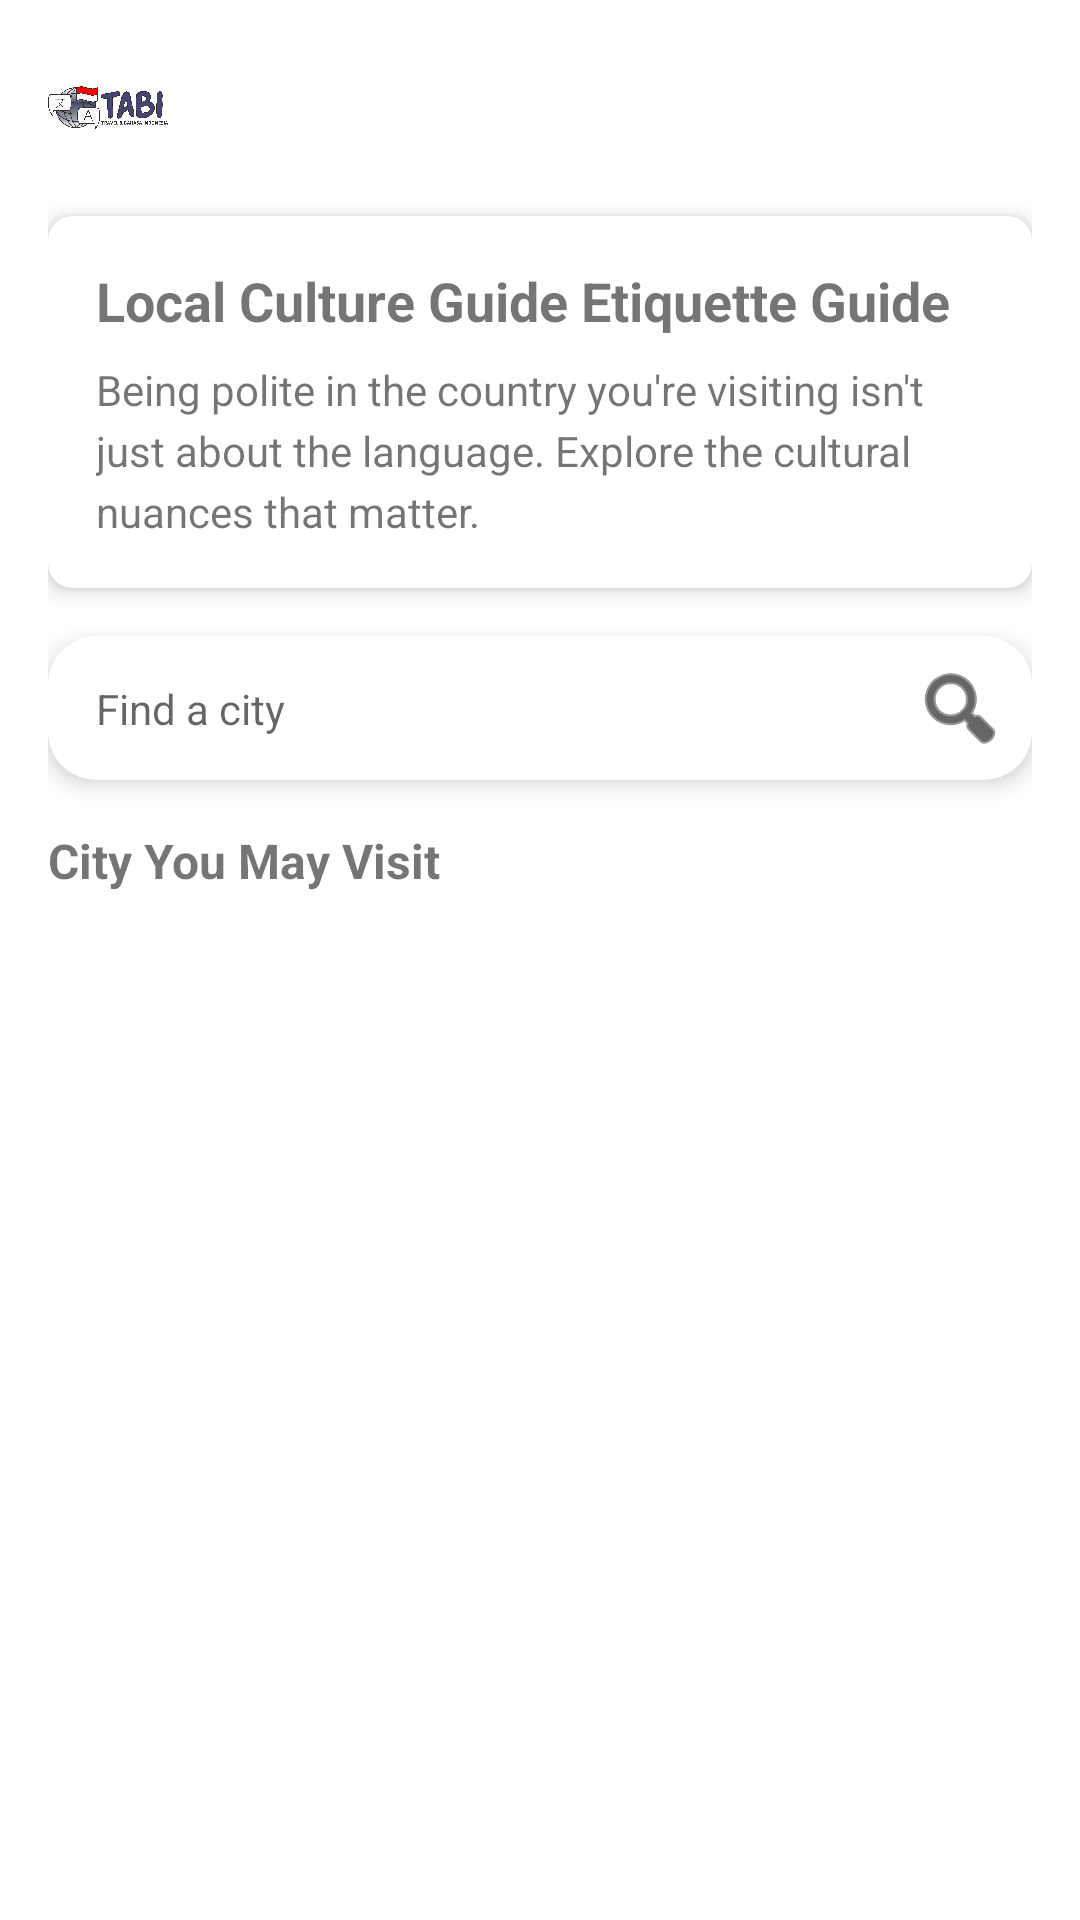

Screen size 1080px x 1920px. Icon name, then its box in pixels as rect(x1, y1, x2, y2):
Search a city: rect(924, 673, 996, 744)
